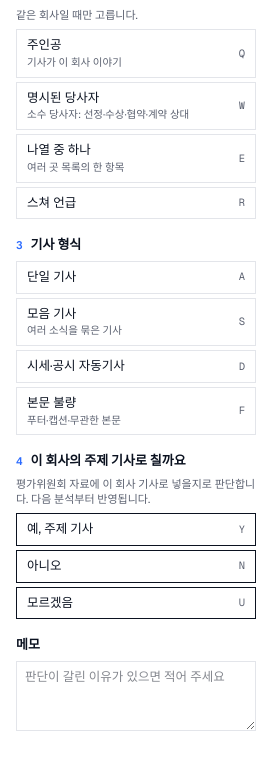
JudgmentWorkbench › rolls back and says so when saving throws instead of answering
(page scrolled)
Click the radio button labelled "예, 주제 기사 Y": (136, 530) [16, 513, 256, 546]
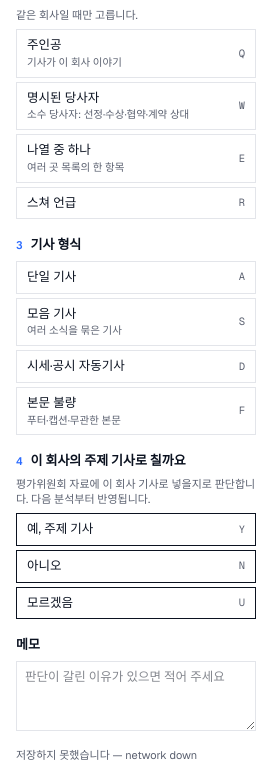
Check: the text "저장하지 못했습니다 — network down" is shown, box [16, 748, 197, 762]
